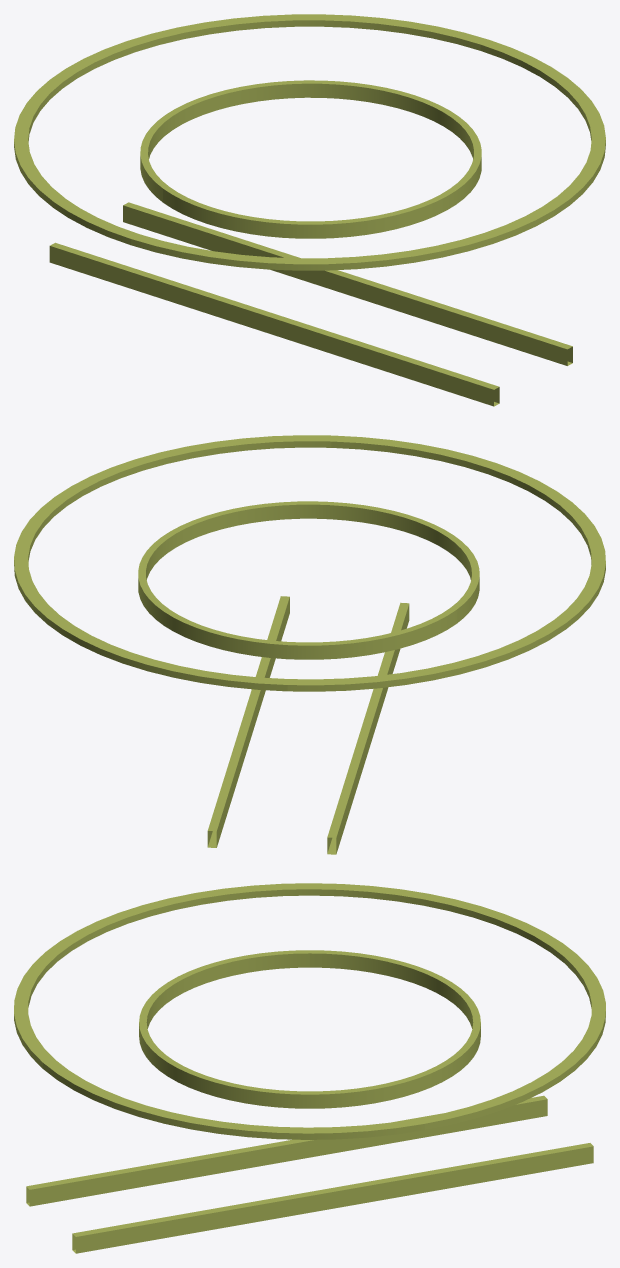
Rendered from Level_00_A_Trim.fbx.
The picture shows the model from 3 angles, top to bottom: view 1: azimuth 30°, elevation 25°; view 2: azimuth 150°, elevation 25°; view 3: azimuth 270°, elevation 25°; orthographic projection.
Visible parts, largest first — view 1: Geom_Level_00_A_Trims_LOD00; view 2: Geom_Level_00_A_Trims_LOD00; view 3: Geom_Level_00_A_Trims_LOD00.
Boxes of the visible parts, <box> form: Geom_Level_00_A_Trims_LOD00: <box>14,14,605,406</box>; Geom_Level_00_A_Trims_LOD00: <box>14,435,605,854</box>; Geom_Level_00_A_Trims_LOD00: <box>14,883,605,1253</box>.
Size of the model in its own units: 2061 by 668 by 2059.
